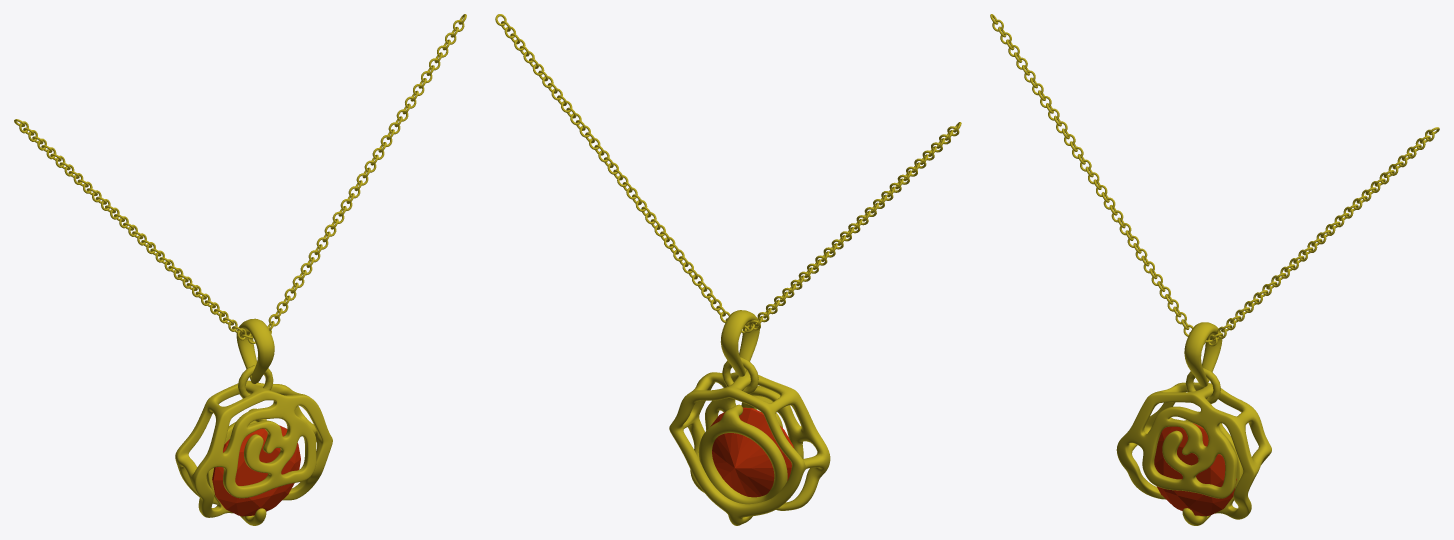
The model's file is set3.glb.
The picture shows the model from 3 angles, left to right: view 1: azimuth 30°, elevation 25°; view 2: azimuth 150°, elevation 25°; view 3: azimuth 330°, elevation 25°; orthographic projection. The views are drawn at different scales.
Visible parts, largest first — view 1: 3, 2; view 2: 3, 2; view 3: 3, 2.
Part boxes in pixels (x1=…): 3: x1=14, y1=14, x2=466, y2=525; 2: x1=212, y1=425, x2=300, y2=516; 3: x1=495, y1=14, x2=961, y2=525; 2: x1=710, y1=407, x2=794, y2=497; 3: x1=990, y1=14, x2=1439, y2=525; 2: x1=1154, y1=423, x2=1236, y2=516.
Bounding box in the file's own units: 1.3 × 1.24 × 0.1712.
